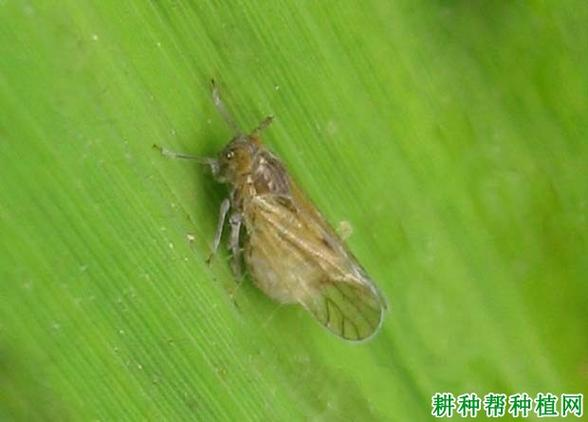Delphacidae: (151, 77, 390, 342)
